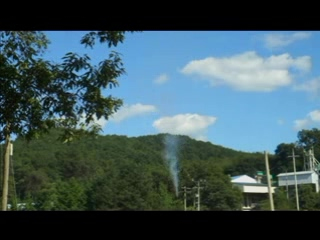smoke: (163, 136, 186, 197)
